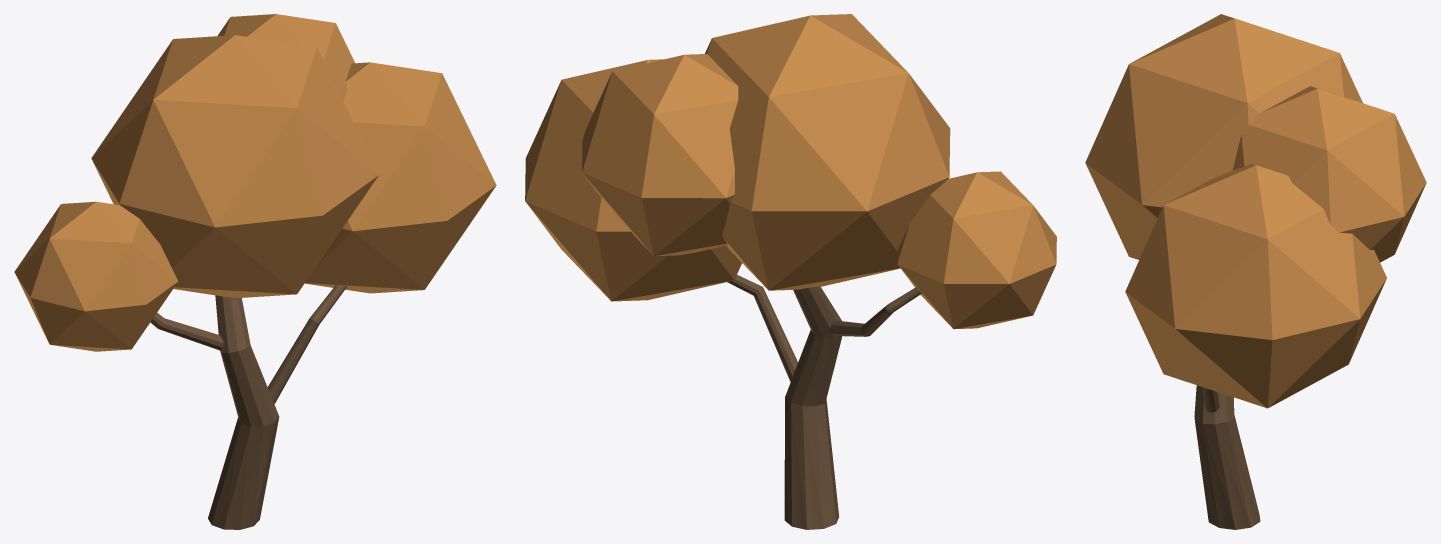
Rendered from tree_orange_2.glb.
3 views of the same model, side by side, from view 1: azimuth 30°, elevation 25°; view 2: azimuth 150°, elevation 25°; view 3: azimuth 270°, elevation 25° (orthographic). The views are drawn at different scales.
Parts seen in each view (by area): view 1: Tree Orange 1; view 2: Tree Orange 1; view 3: Tree Orange 1.
Part boxes in pixels (bbox=[...]): Tree Orange 1: bbox=[14, 14, 496, 529]; Tree Orange 1: bbox=[525, 14, 1056, 529]; Tree Orange 1: bbox=[1085, 14, 1426, 529].
Size of the model in its own units: 0.3091 by 0.3001 by 0.1856.
